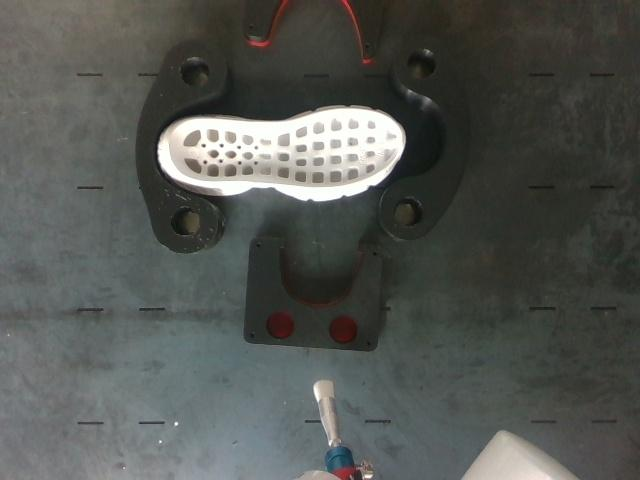shoes: (169, 110, 402, 187)
